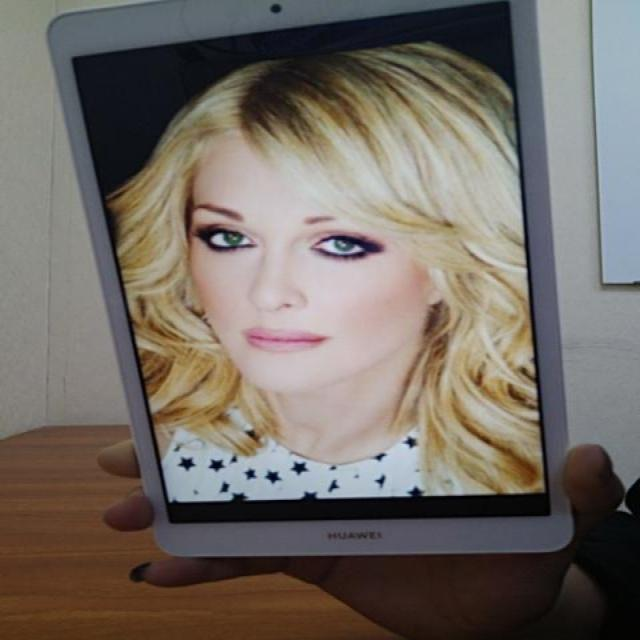device: (46, 4, 587, 569)
